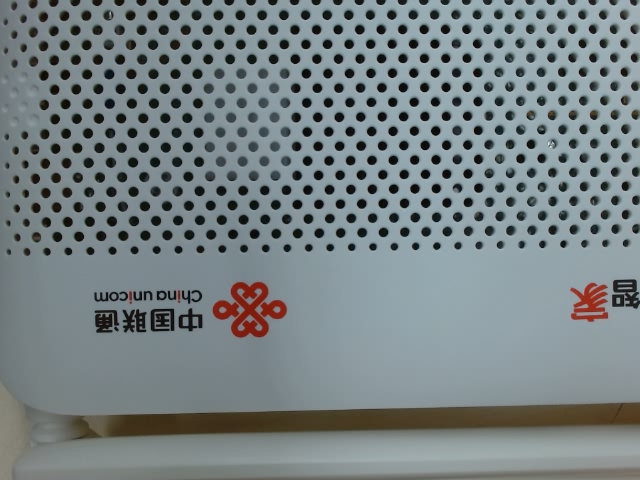AD_ChinaUnicom: (87, 274, 293, 353)
